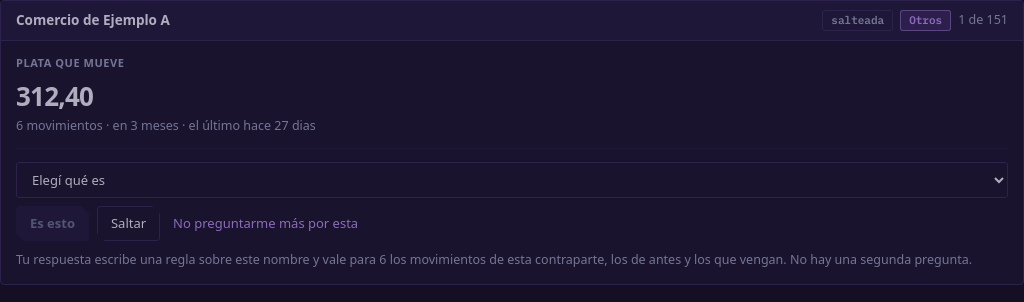
Scenario: ClassifyCard — la tarjeta de una contraparte › una tarjeta salteada se marca, y sigue siendo respondible
Check: the text with test id "classify-salteada" reads "salteada", box 831,13 -> 884,27
Select "Comida" in the dropdown with test id "classify-selector" at {"x": 512, "y": 180}, box 16,162 -> 1008,198
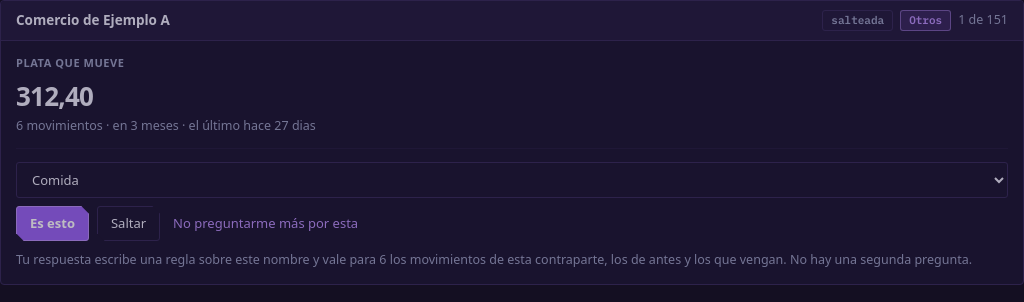
Check: the button with test id "classify-responder" is enabled, box 16,206 -> 89,241
